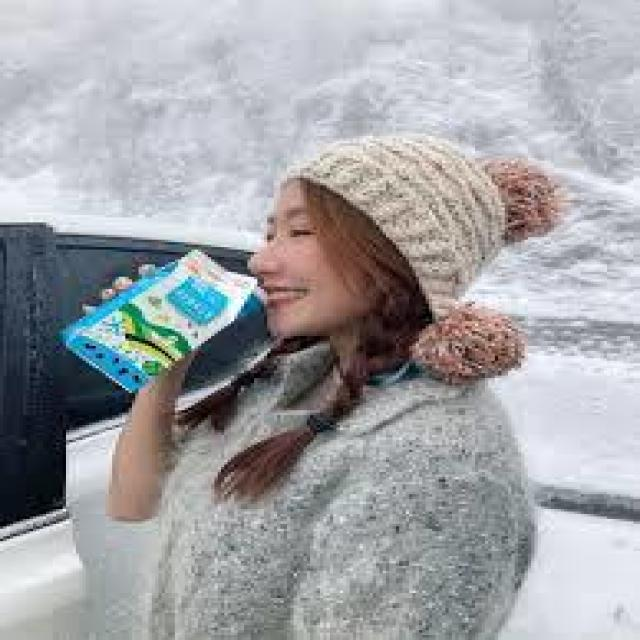TongYi_UnsweetenedBlackSoyMilk: (58, 246, 276, 394)
